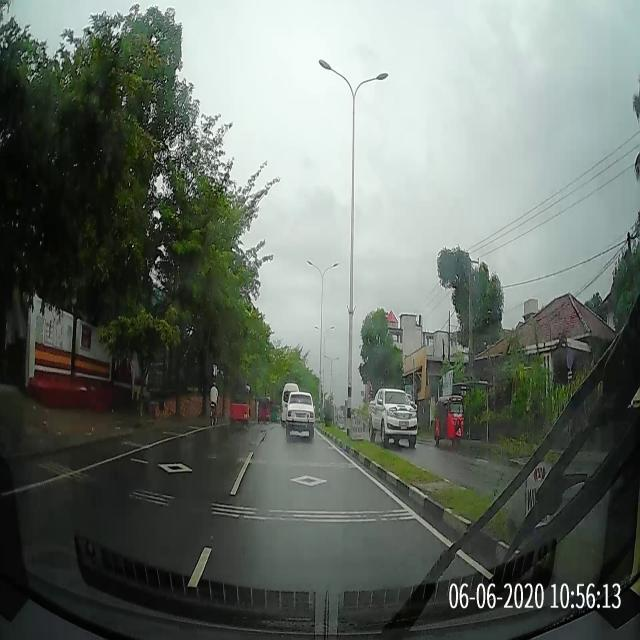diamond: (214, 456, 411, 507)
